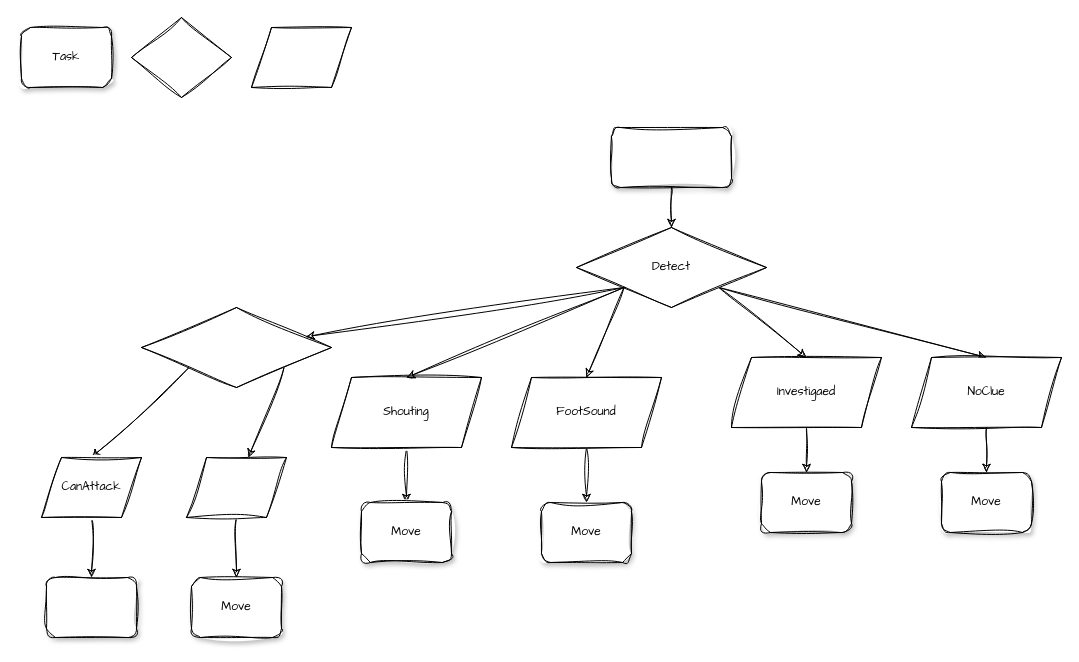
Some shapes in this 1079 by 662 pixel diagram are drawn without their labels. The shapes that lost their labels are listed below. From the top down, each one's centre as x and y in pixels, then its label:
At (x=181, y=57): "Selector".
At (x=301, y=57): "Sequence".
At (x=672, y=158): "Zombie_ BT".
At (x=236, y=347): "CanSeePlayer".
At (x=236, y=487): "CanNotAttack".
At (x=92, y=608): "Attack".
